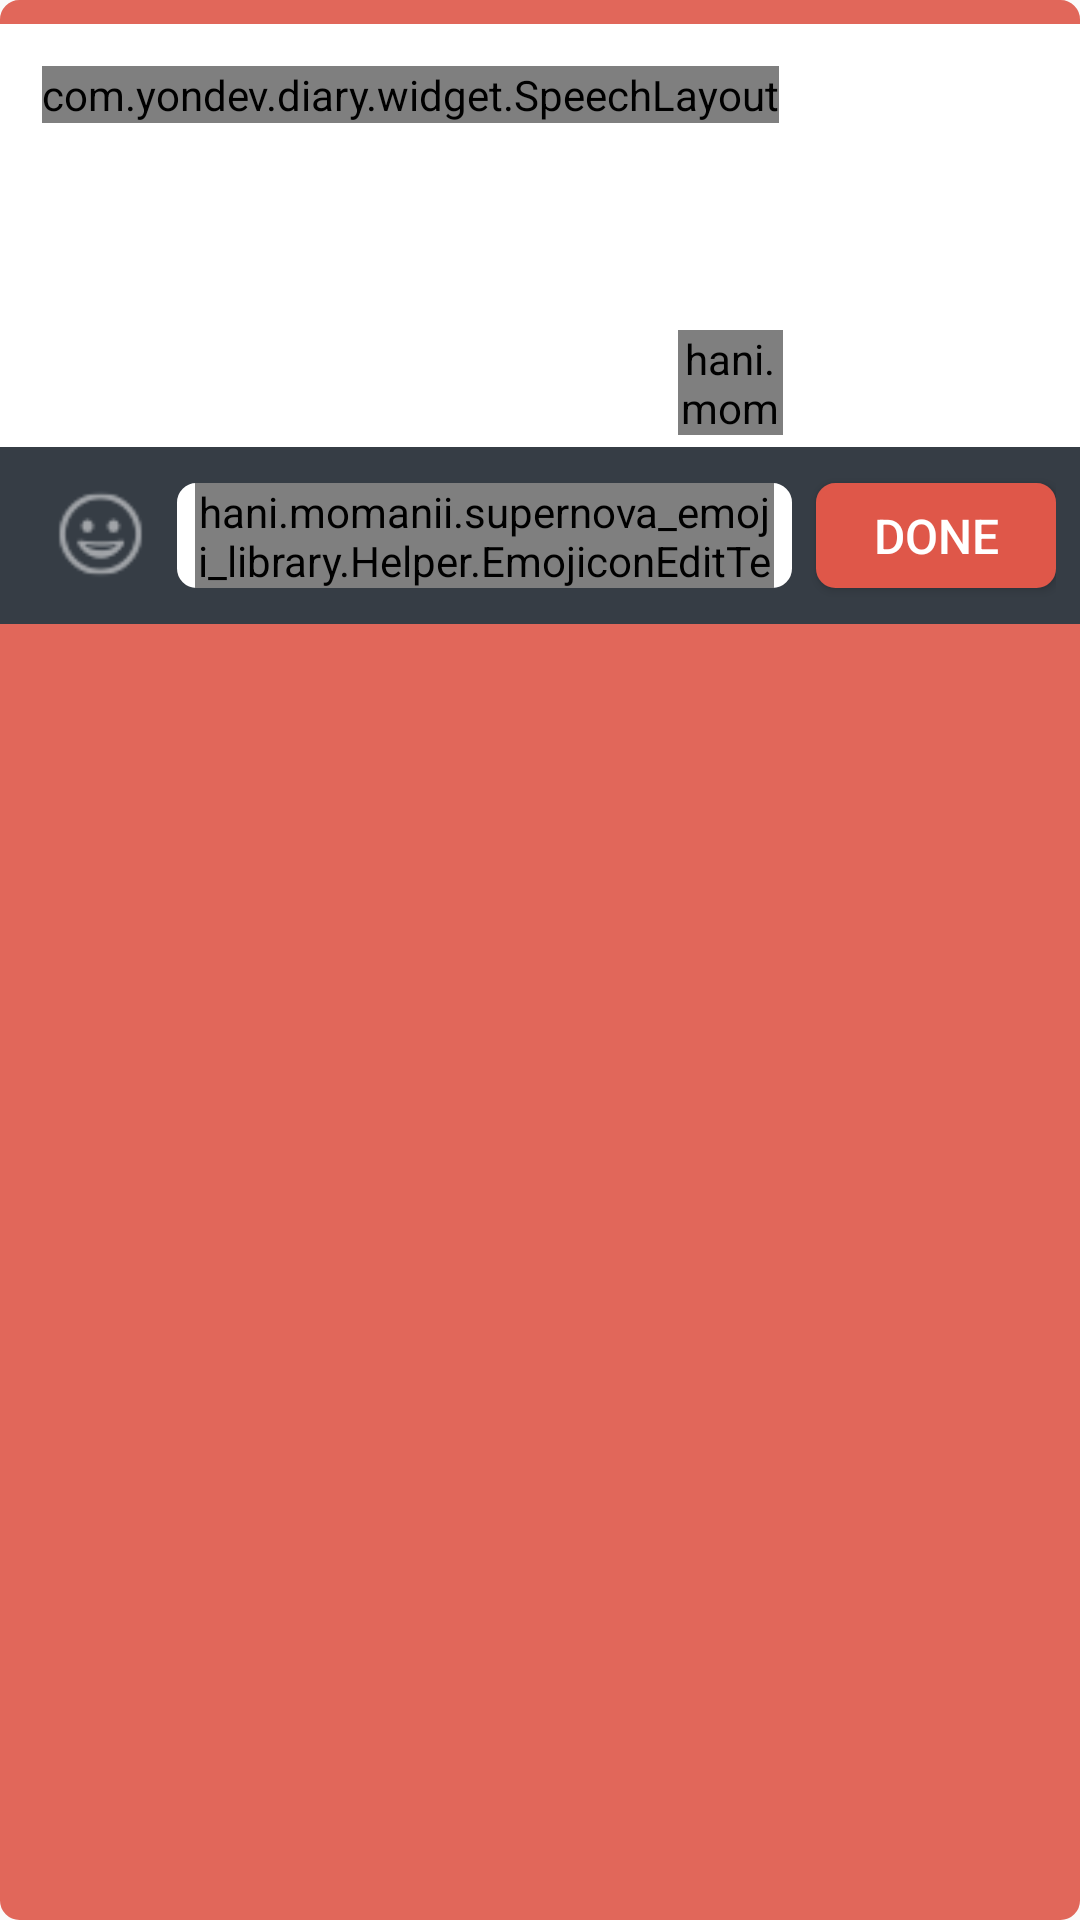

Point at icon controls on the screen. Image size 1080px x 1920px, points as (x=x, y=y).
emoji people: (x=100, y=534)
